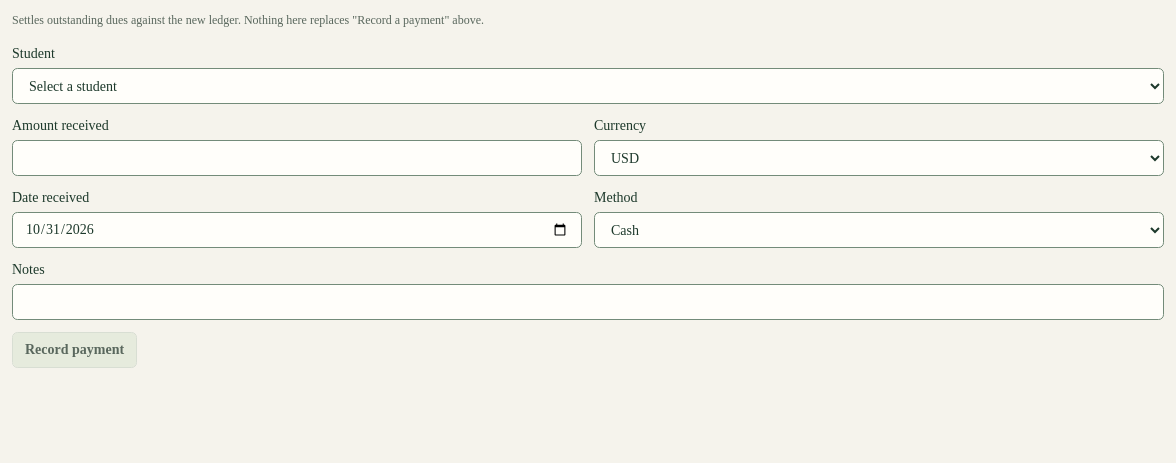
fresh submission outcomes › a replay reporting currentlyReversed:true shows the DISTINCT reversed notice, never plain success
Select "Ana Soto — Alliance" in the dropdown labelled "Student": (588,86) [12, 68, 1164, 104]
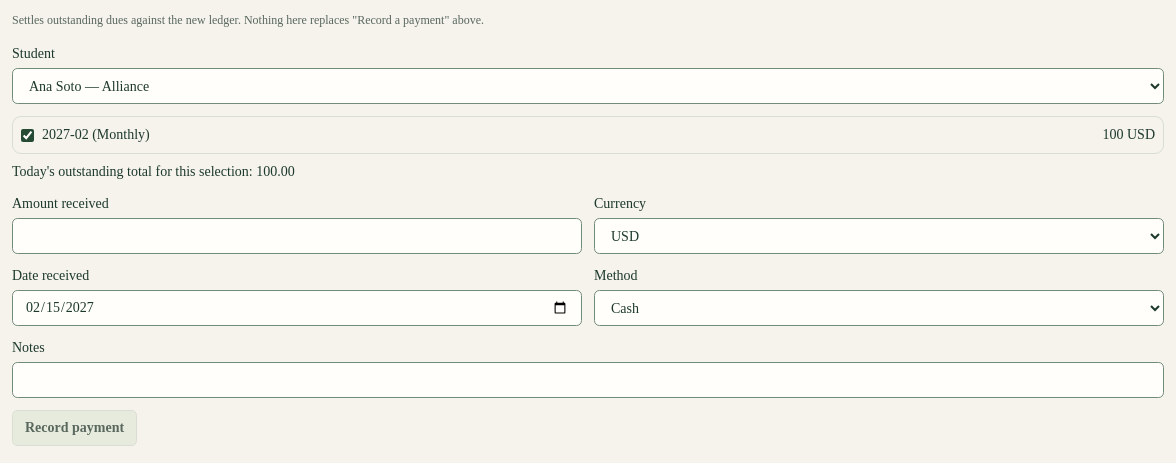
In the field labelled "Amount received": (297,236) [12, 218, 582, 254], type "100.00"
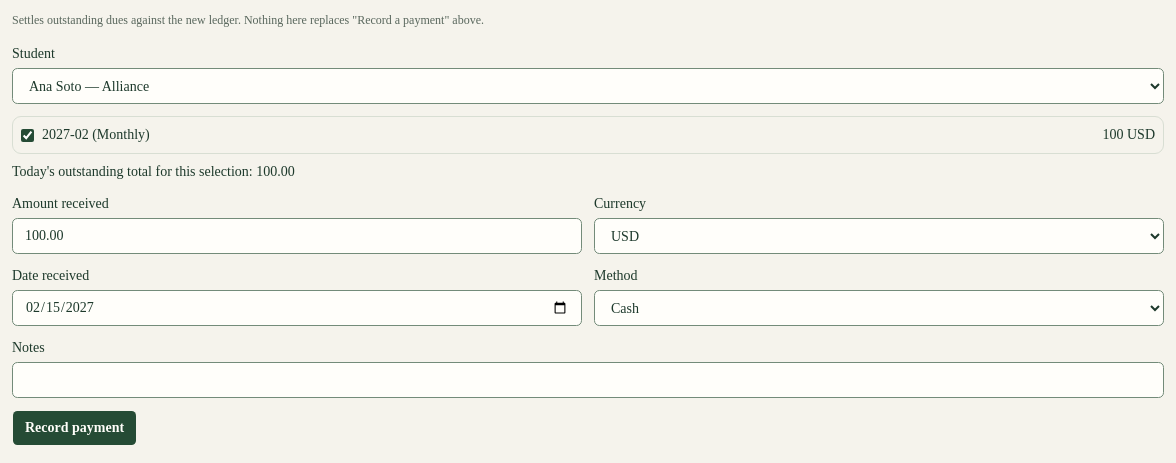
Click the button "Record payment": (75,428) [12, 410, 137, 446]
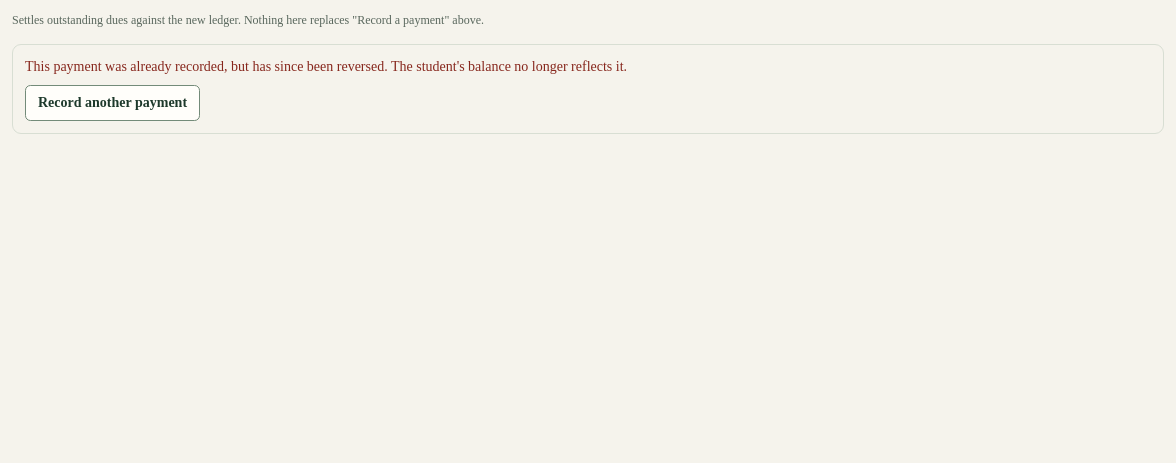
Now the text "since been reversed" is shown, box [25, 59, 627, 74]
